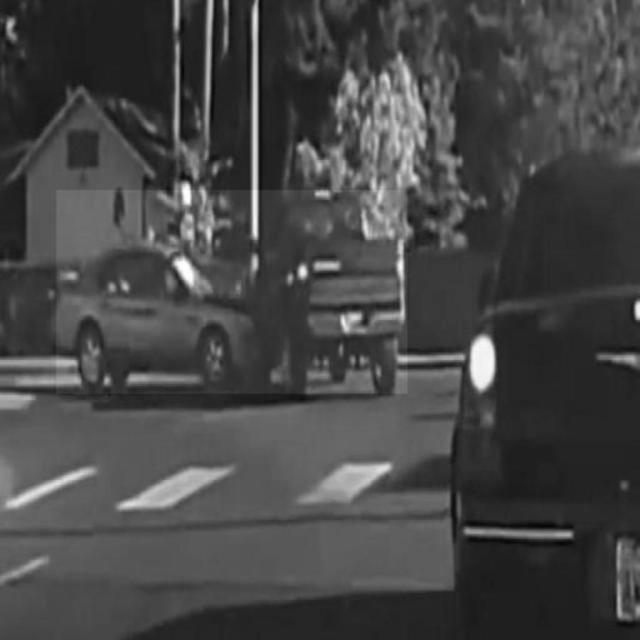accident: (57, 190, 407, 394)
